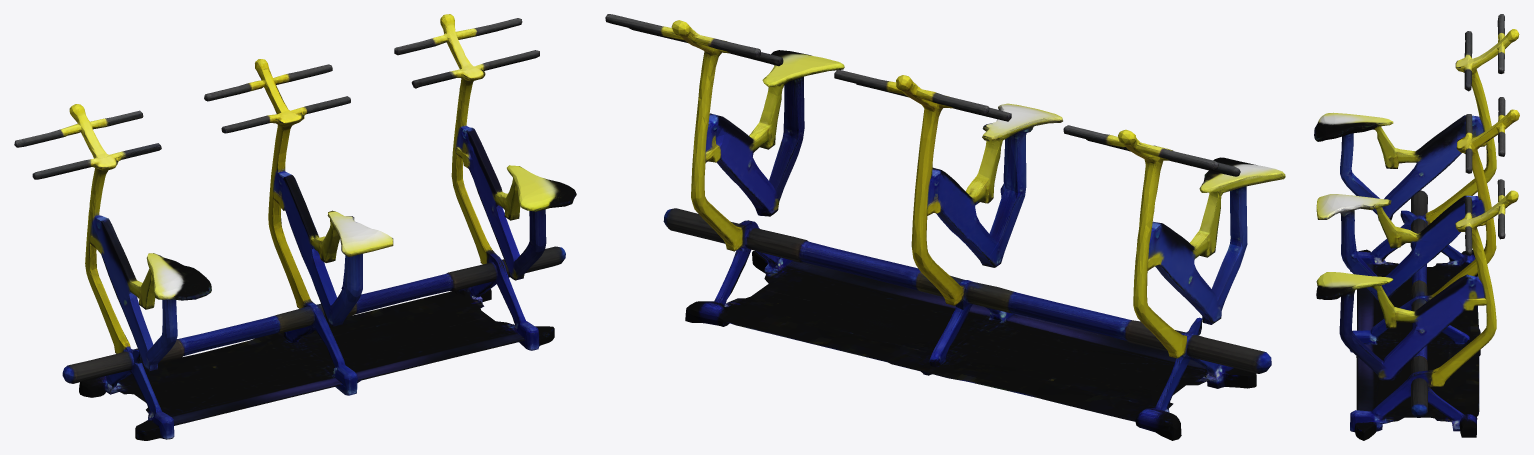
Rendered from bike.obj.
The picture shows the model from 3 angles, left to right: view 1: azimuth 30°, elevation 25°; view 2: azimuth 150°, elevation 25°; view 3: azimuth 270°, elevation 25°; orthographic projection. The views are drawn at different scales.
Parts seen in each view (by area): view 1: obj1; view 2: obj1; view 3: obj1.
Boxes of the visible parts, bbox=[...] form: obj1: bbox=[14, 14, 576, 440]; obj1: bbox=[605, 14, 1285, 440]; obj1: bbox=[1314, 14, 1519, 440].
Bounding box in the file's own units: 1 × 0.5081 × 0.3934.
1 material, 1 textured.
